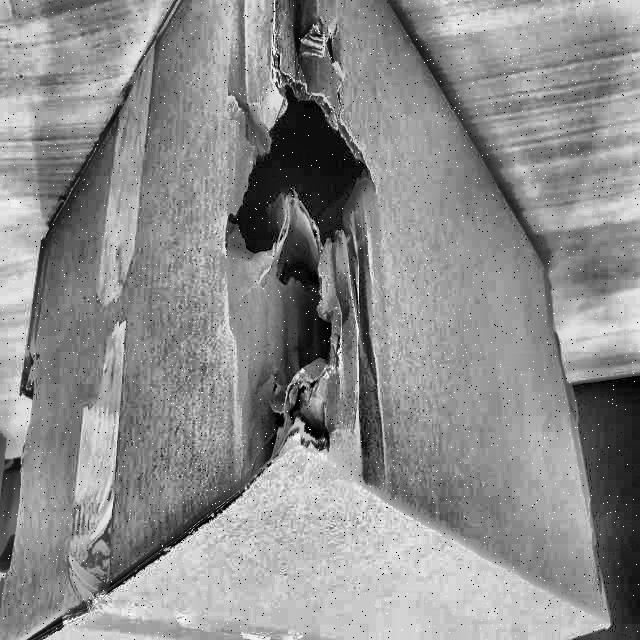box: (1, 1, 619, 640)
hole: (236, 98, 368, 477)
